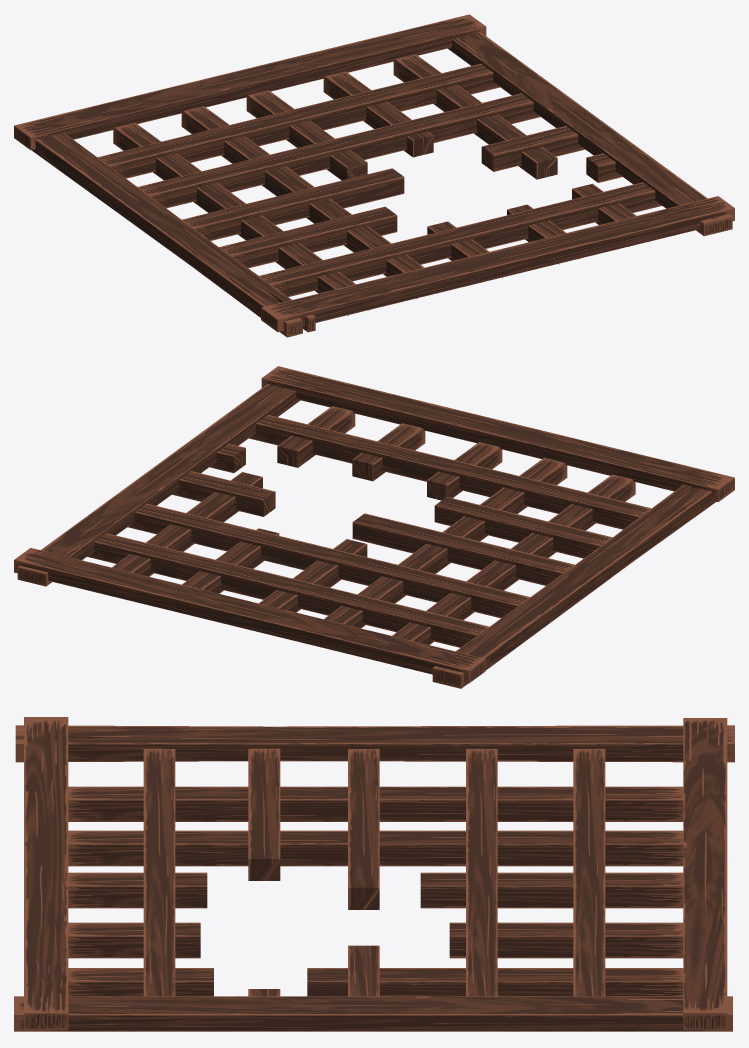
The model's file is Wood_floor_hole_5.fbx.
3 views of the same model, one above another, from view 1: azimuth 30°, elevation 25°; view 2: azimuth 150°, elevation 25°; view 3: azimuth 270°, elevation 25° (orthographic). The views are drawn at different scales.
Visible parts, largest first — view 1: Wood_floor_hole_5; view 2: Wood_floor_hole_5; view 3: Wood_floor_hole_5.
Boxes of the visible parts, bbox=[...] form: Wood_floor_hole_5: bbox=[14, 14, 734, 337]; Wood_floor_hole_5: bbox=[14, 366, 734, 688]; Wood_floor_hole_5: bbox=[14, 717, 734, 1031].
Bounding box in the file's own units: 4.17 × 0.2379 × 4.29.
